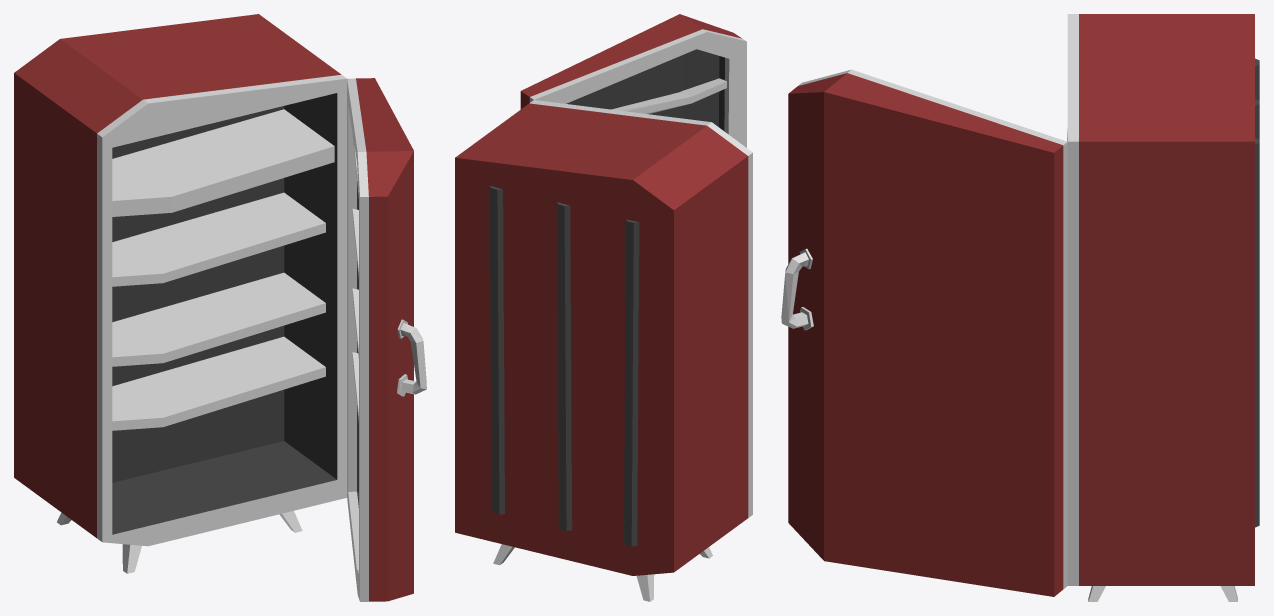
File: Fridge_01_SkF.fbx
The picture shows the model from 3 angles, left to right: view 1: azimuth 30°, elevation 25°; view 2: azimuth 150°, elevation 25°; view 3: azimuth 270°, elevation 25°; orthographic projection. The views are drawn at different scales.
Visible parts, largest first — view 1: Fridge_01, Fridge_01_door; view 2: Fridge_01, Fridge_01_door; view 3: Fridge_01_door, Fridge_01.
Part boxes in pixels (bbox=[...]): Fridge_01: bbox=[14, 14, 346, 573]; Fridge_01_door: bbox=[347, 78, 426, 601]; Fridge_01: bbox=[455, 100, 752, 601]; Fridge_01_door: bbox=[520, 14, 746, 147]; Fridge_01_door: bbox=[781, 69, 1067, 596]; Fridge_01: bbox=[1067, 14, 1259, 601].
Bounding box in the file's own units: 87 × 148 × 128.
1 material, 1 textured.
